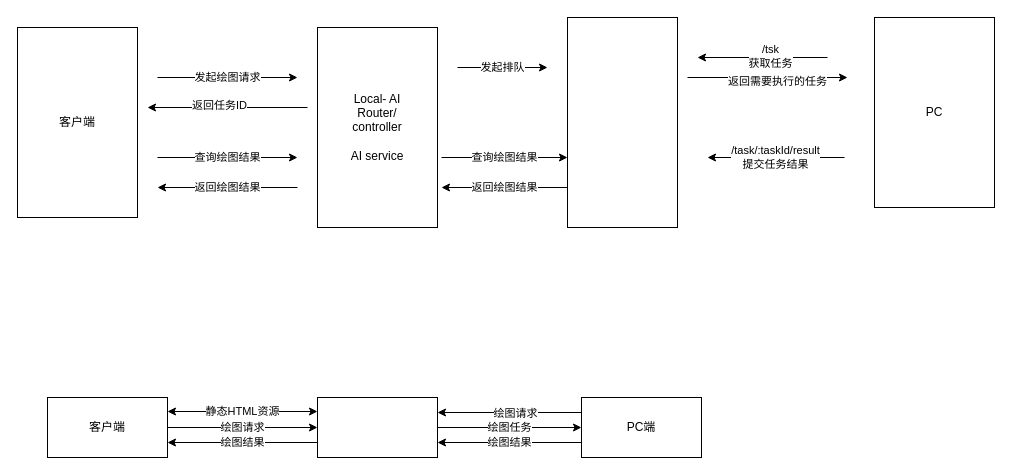
This 1012x475 diagram has some shape labels left out. The box of each missing label's shape, as (x1, y1, x2, y2) in pixels:
Local Router/ controller/service: (566, 16, 678, 228)
微信云托管: (316, 396, 438, 458)
